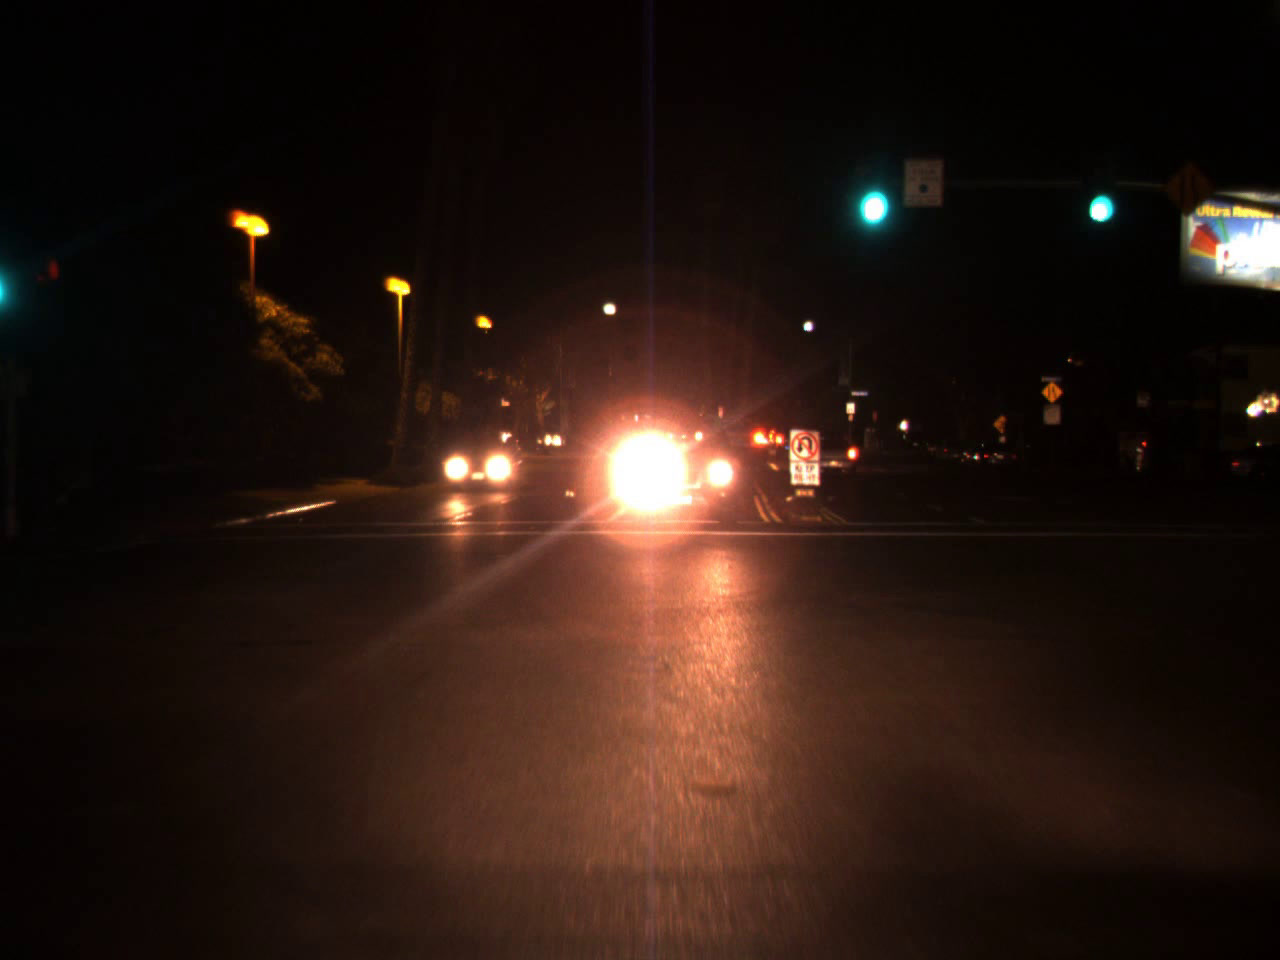go: (849, 150, 890, 237), (1079, 161, 1118, 233)
